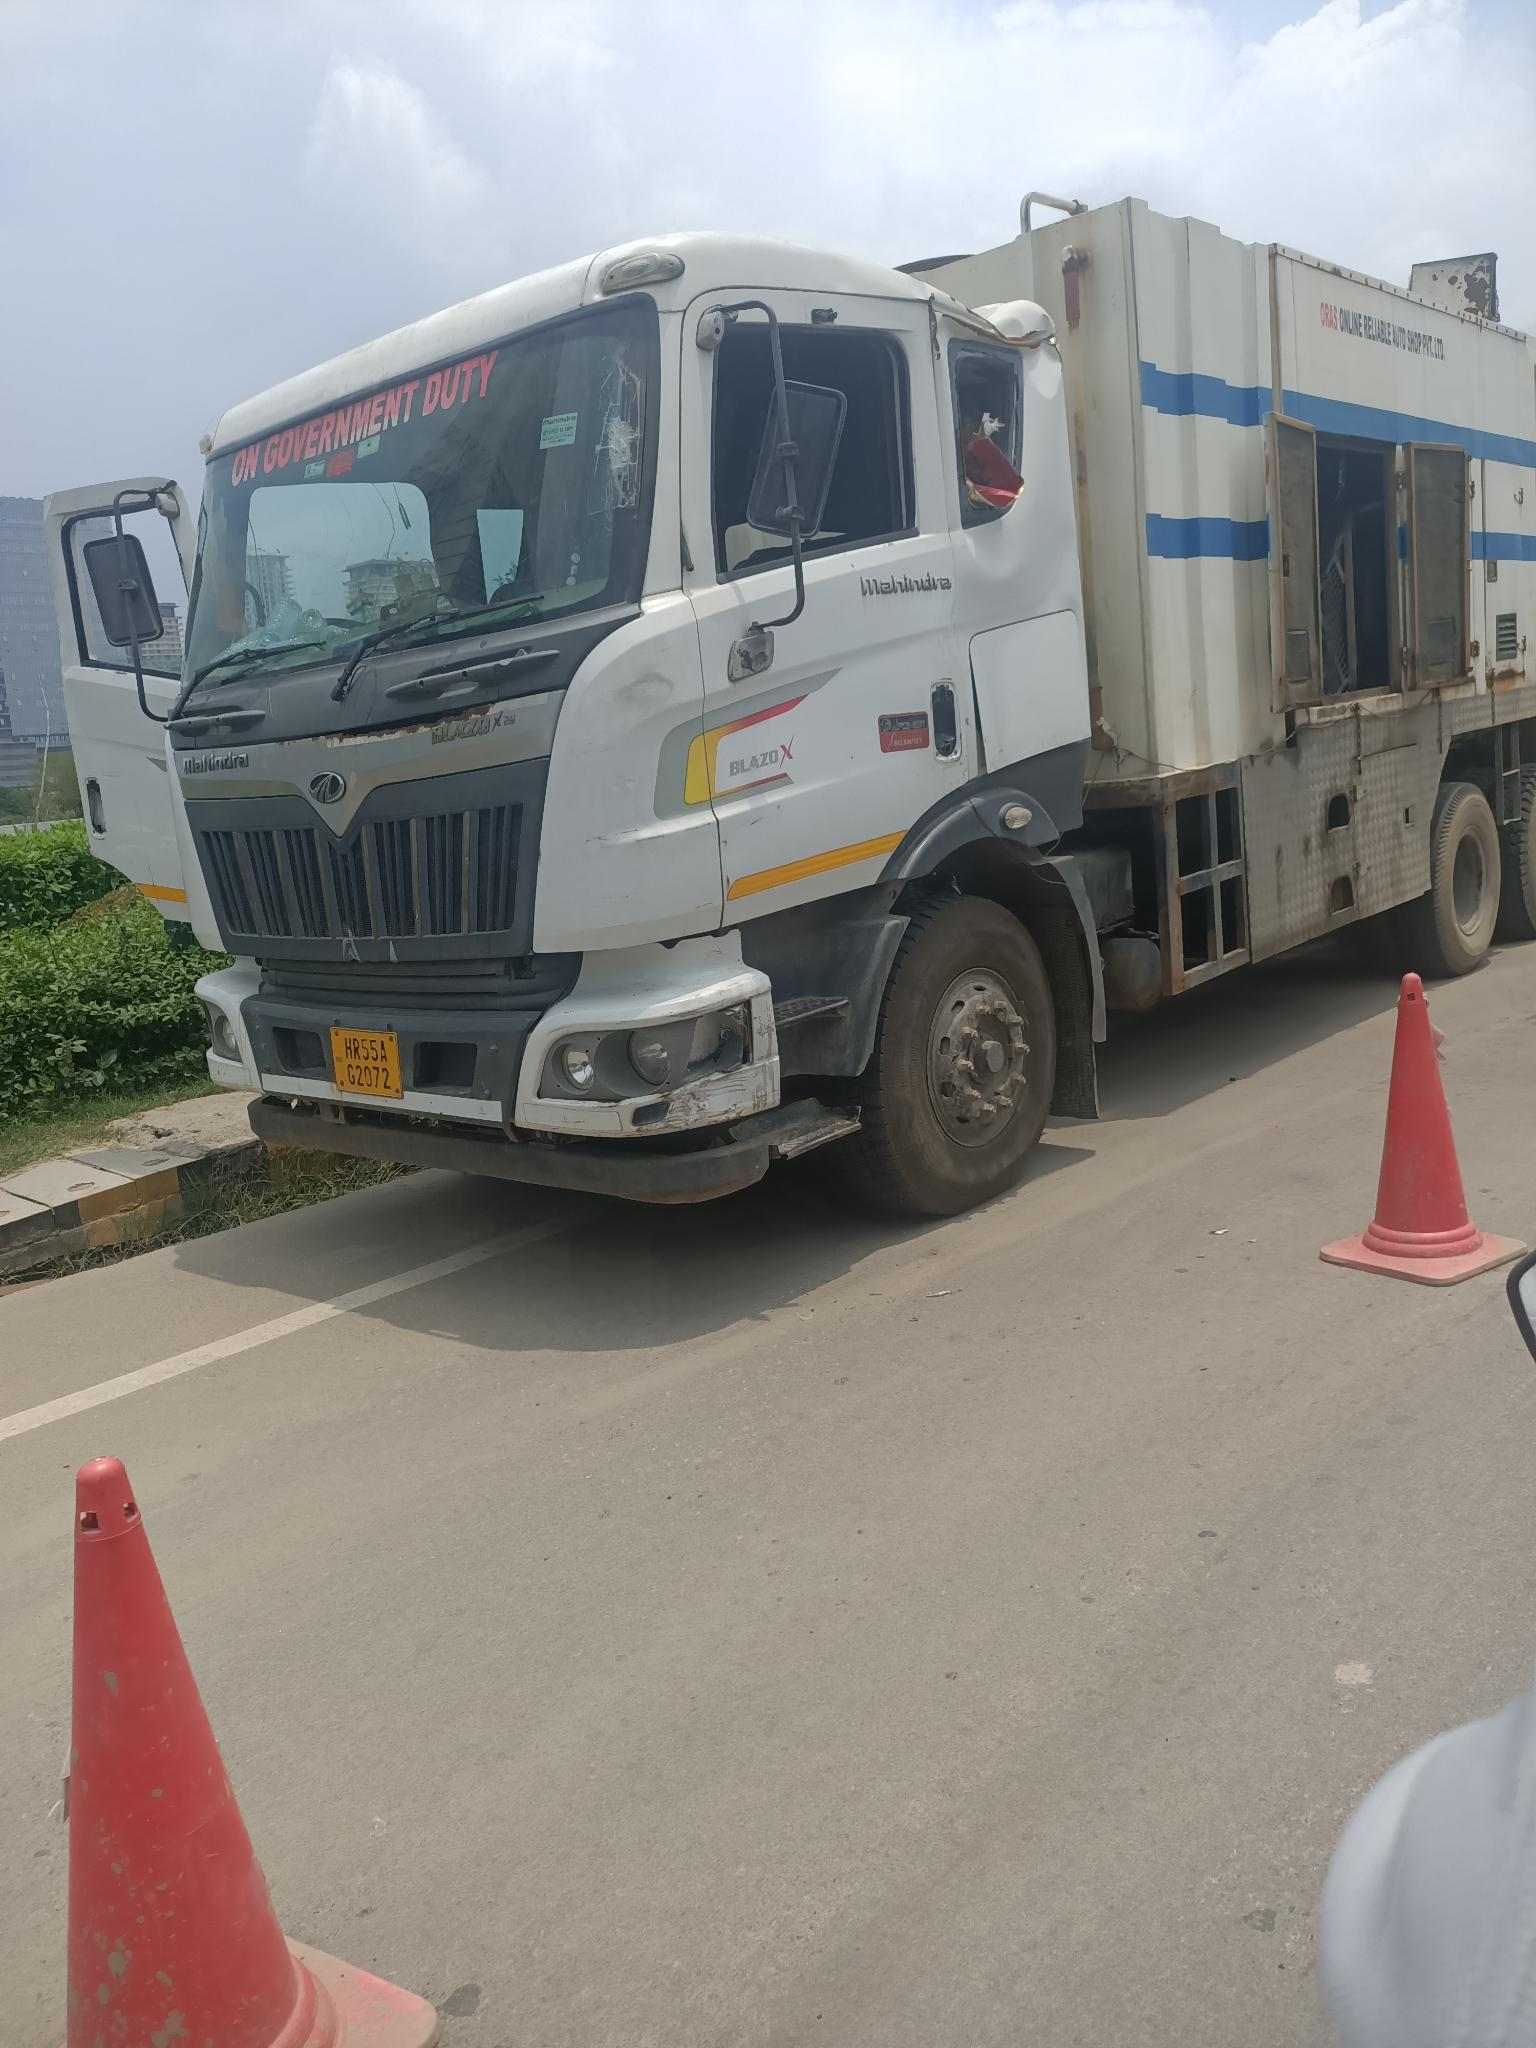FastTag: (302, 460, 326, 481)
not a FastTag: (537, 416, 581, 450), (355, 434, 386, 461)
